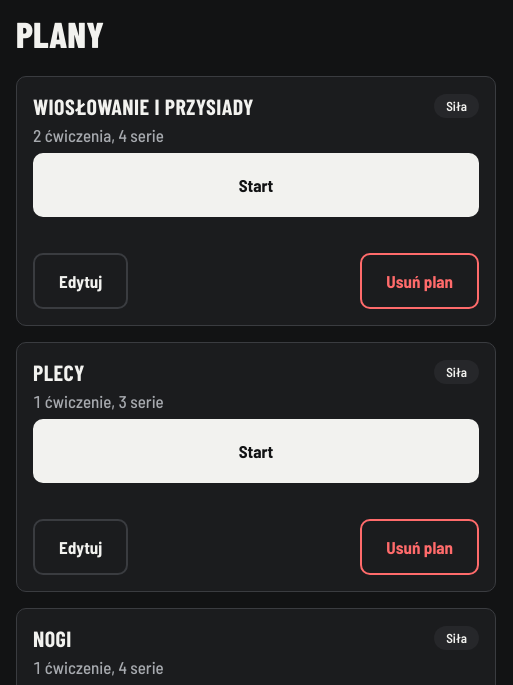
Test: Start with three saved plans › starts the plan of the tapped card: Start: Plecy
Click the button "Start" below "Plecy".
click(256, 451)  # box [33, 419, 479, 483]
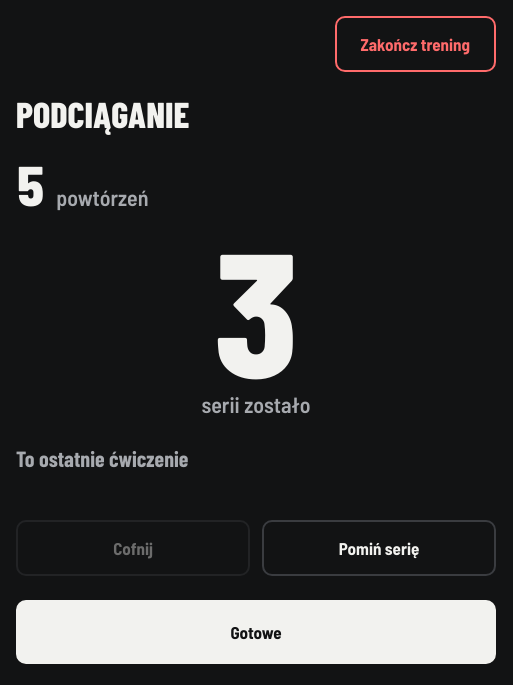
Now the heading "Podciąganie" is shown, box [16, 92, 189, 135]
